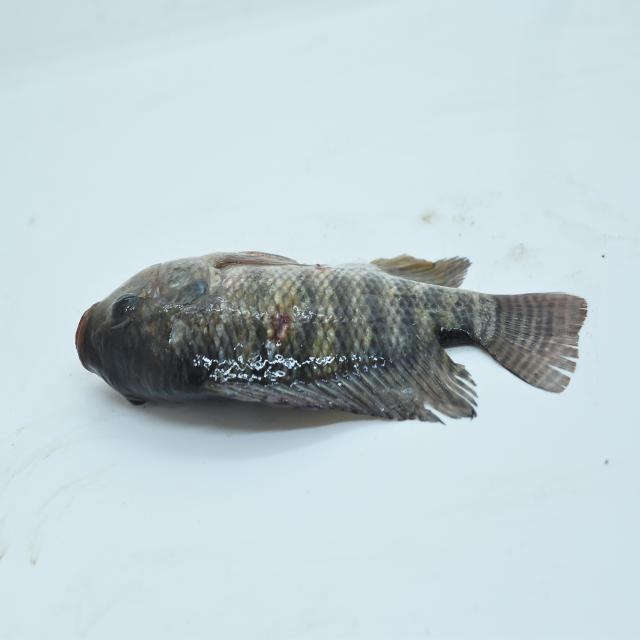Columnaris Disease: (72, 242, 599, 451)
